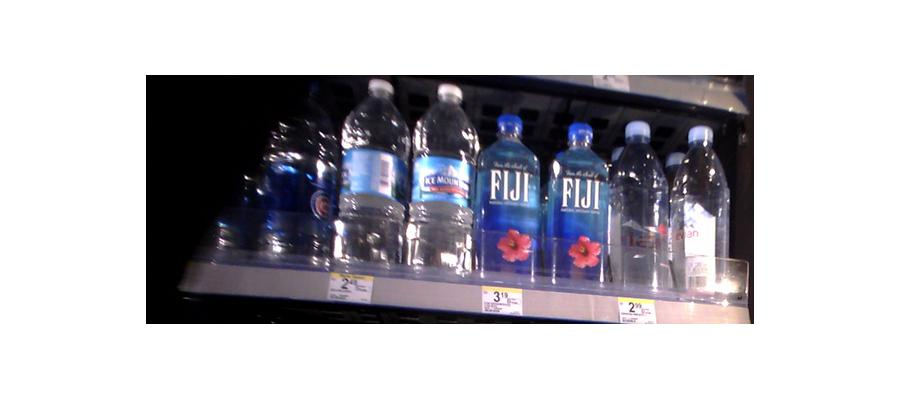bottle: (335, 78, 409, 272), (408, 84, 478, 274), (259, 94, 332, 269), (478, 109, 543, 283), (610, 117, 671, 301), (547, 122, 611, 290), (672, 125, 728, 298)
